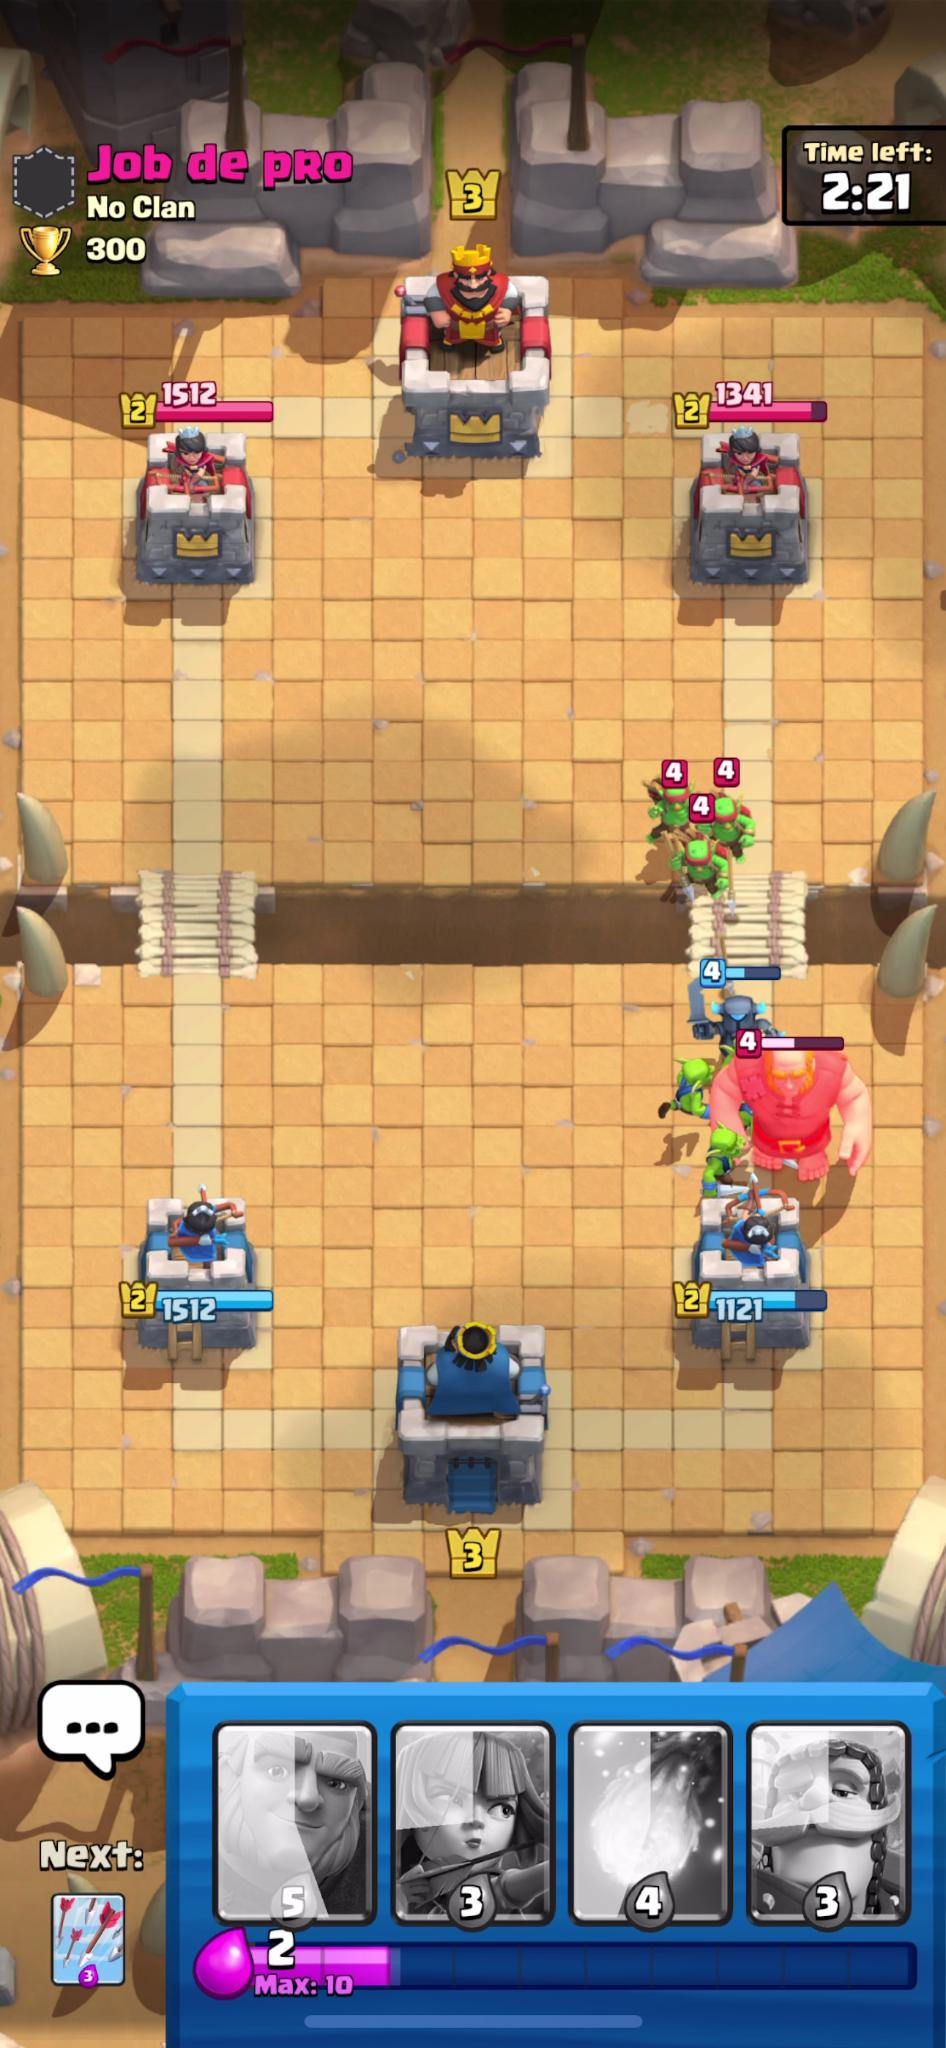geant: (704, 1038, 890, 1200)
gobelin_lances: (601, 755, 801, 942), (655, 1053, 730, 1134), (694, 1126, 766, 1196)
mini_PEKKA: (693, 981, 785, 1064)
